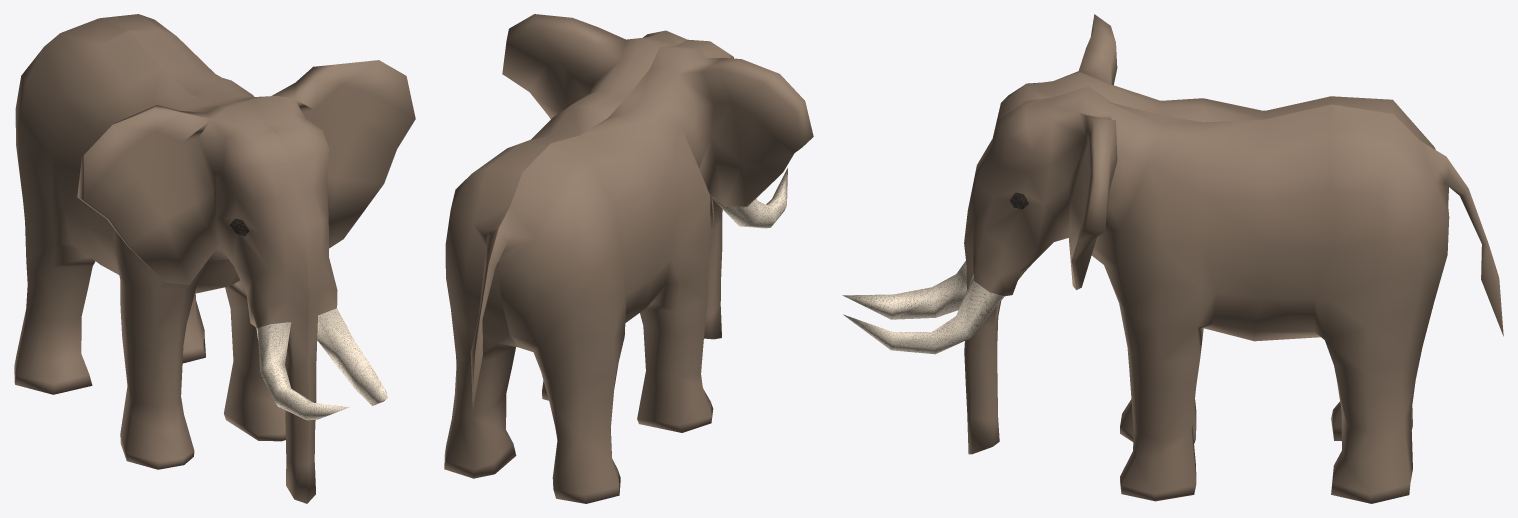
Rendered from Elephant.dae.
3 views of the same model, side by side, from view 1: azimuth 30°, elevation 25°; view 2: azimuth 150°, elevation 25°; view 3: azimuth 270°, elevation 25° (orthographic). The views are drawn at different scales.
Parts seen in each view (by area): view 1: Elephant (×4); view 2: Elephant (×3); view 3: Elephant (×4).
Boxes of the visible parts, <box> form: Elephant (×4): <box>14,14,415,503</box>; Elephant (×3): <box>444,14,813,503</box>; Elephant (×4): <box>842,14,1503,503</box>.
Size of the model in its own units: 85.87 by 145 by 93.14.
